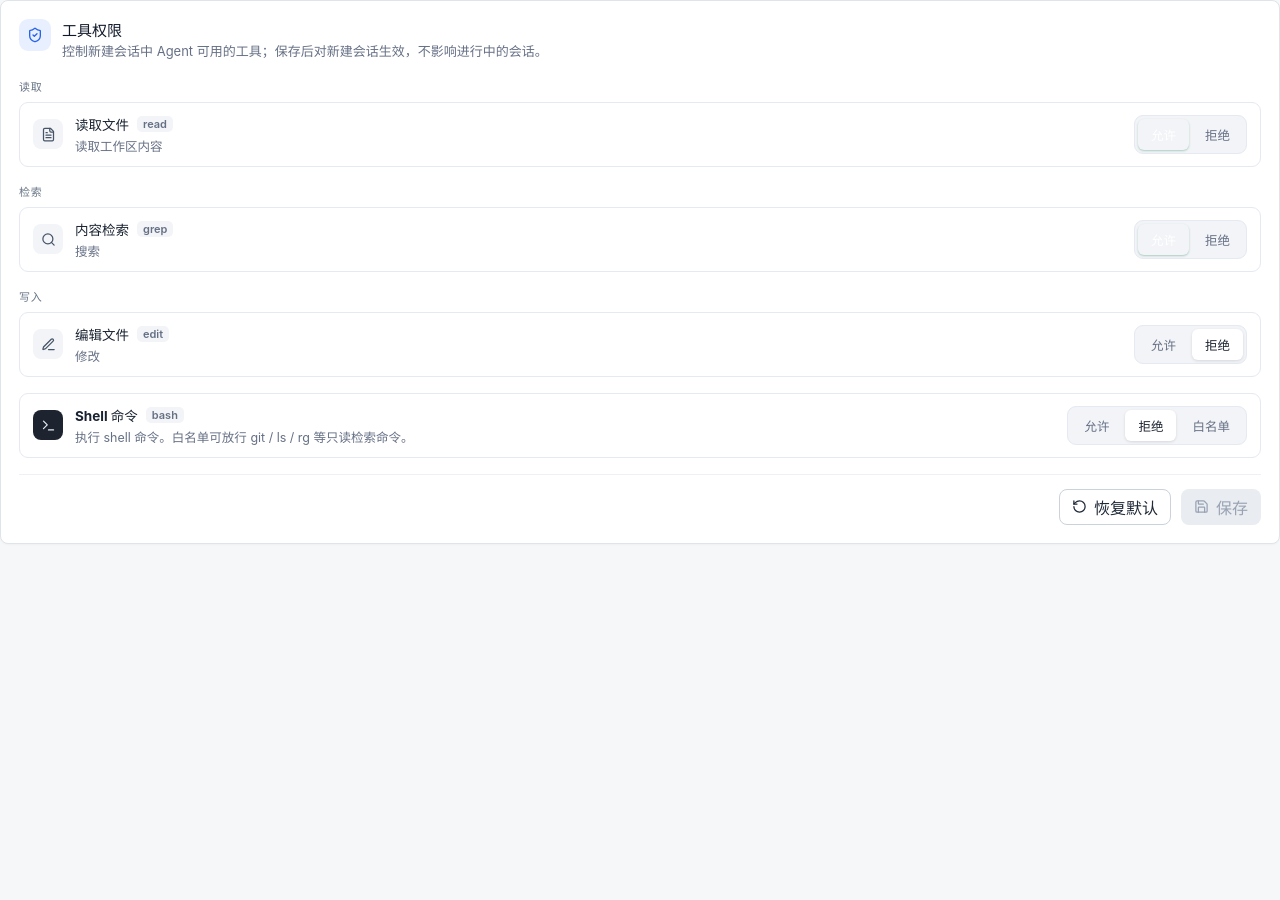
OpencodeToolPermissionsPanel › shows an error toast when saving fails
Expected: the text "编辑文件" is shown, [75, 326, 129, 342]
Click the radio button labelled "允许" in the row of "edit" at (1164, 344), box [1138, 328, 1189, 360]
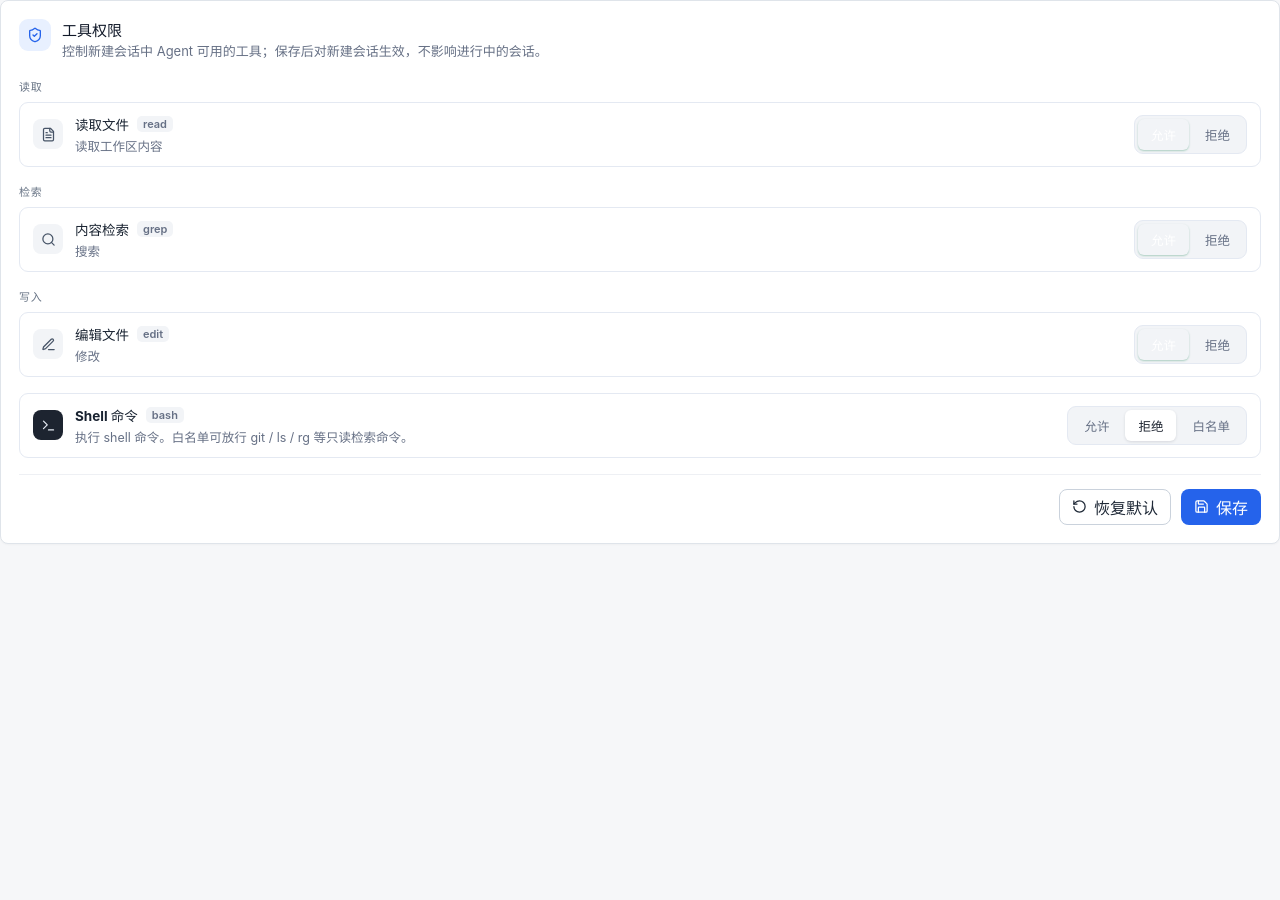
Click the button "保存" at (1221, 506), box [1181, 488, 1261, 524]
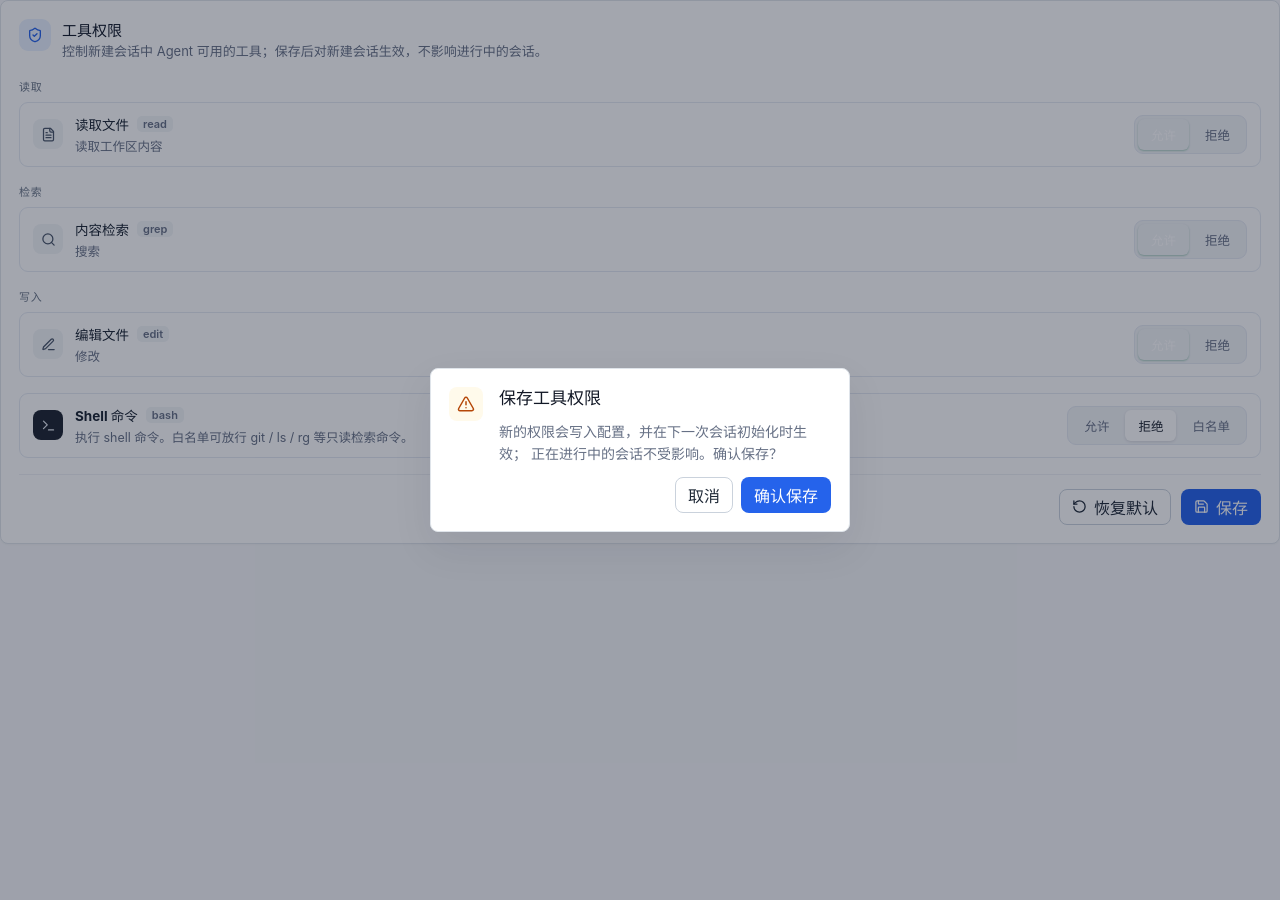
Click the button "确认保存" at (786, 495), box [741, 477, 831, 513]
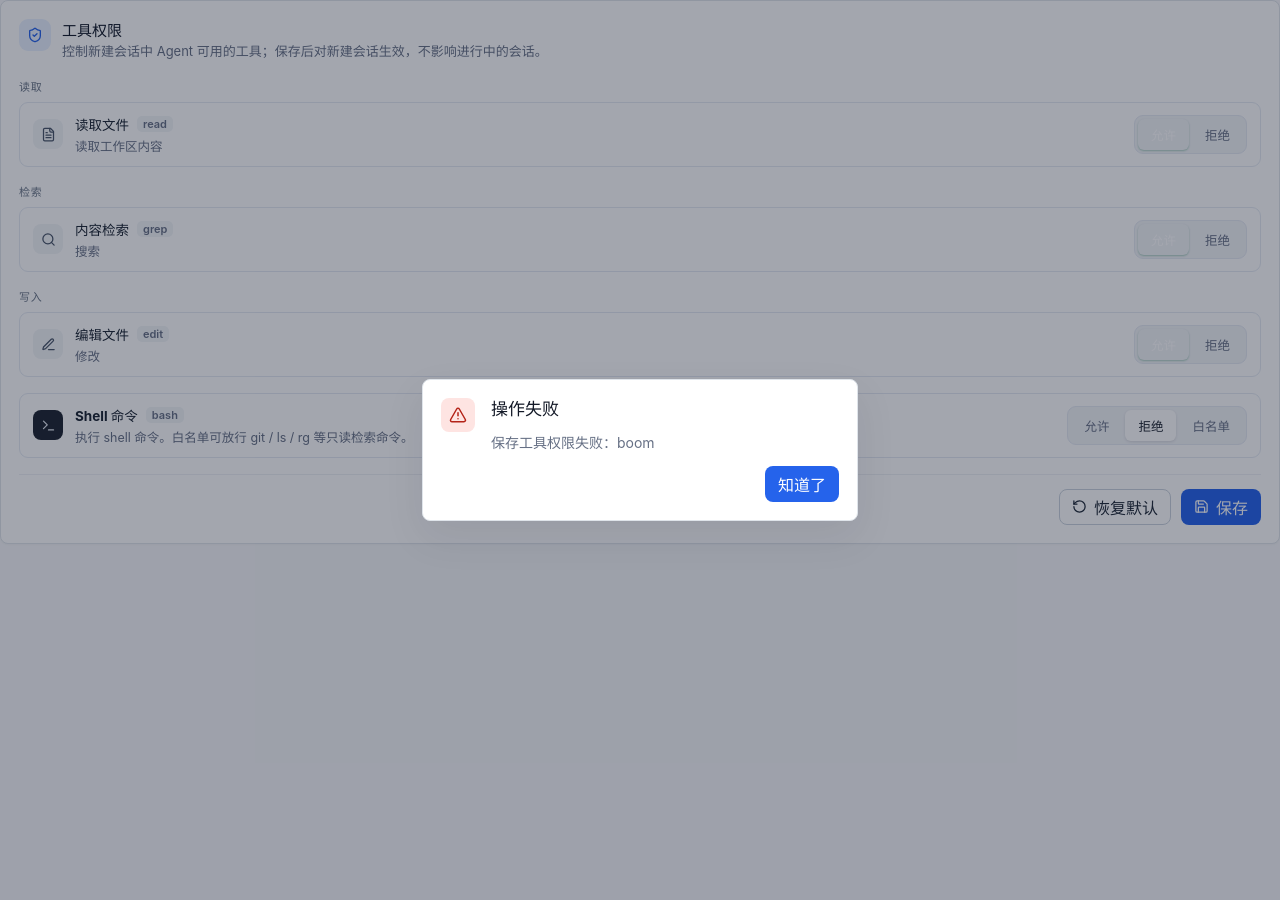
Result: the text "保存工具权限失败：boom" is shown at [491, 434, 655, 451]
